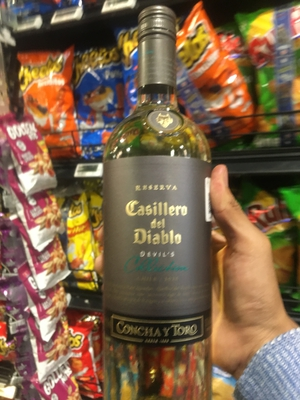casillero del diablo devils collection verde: (91, 16, 231, 400)
